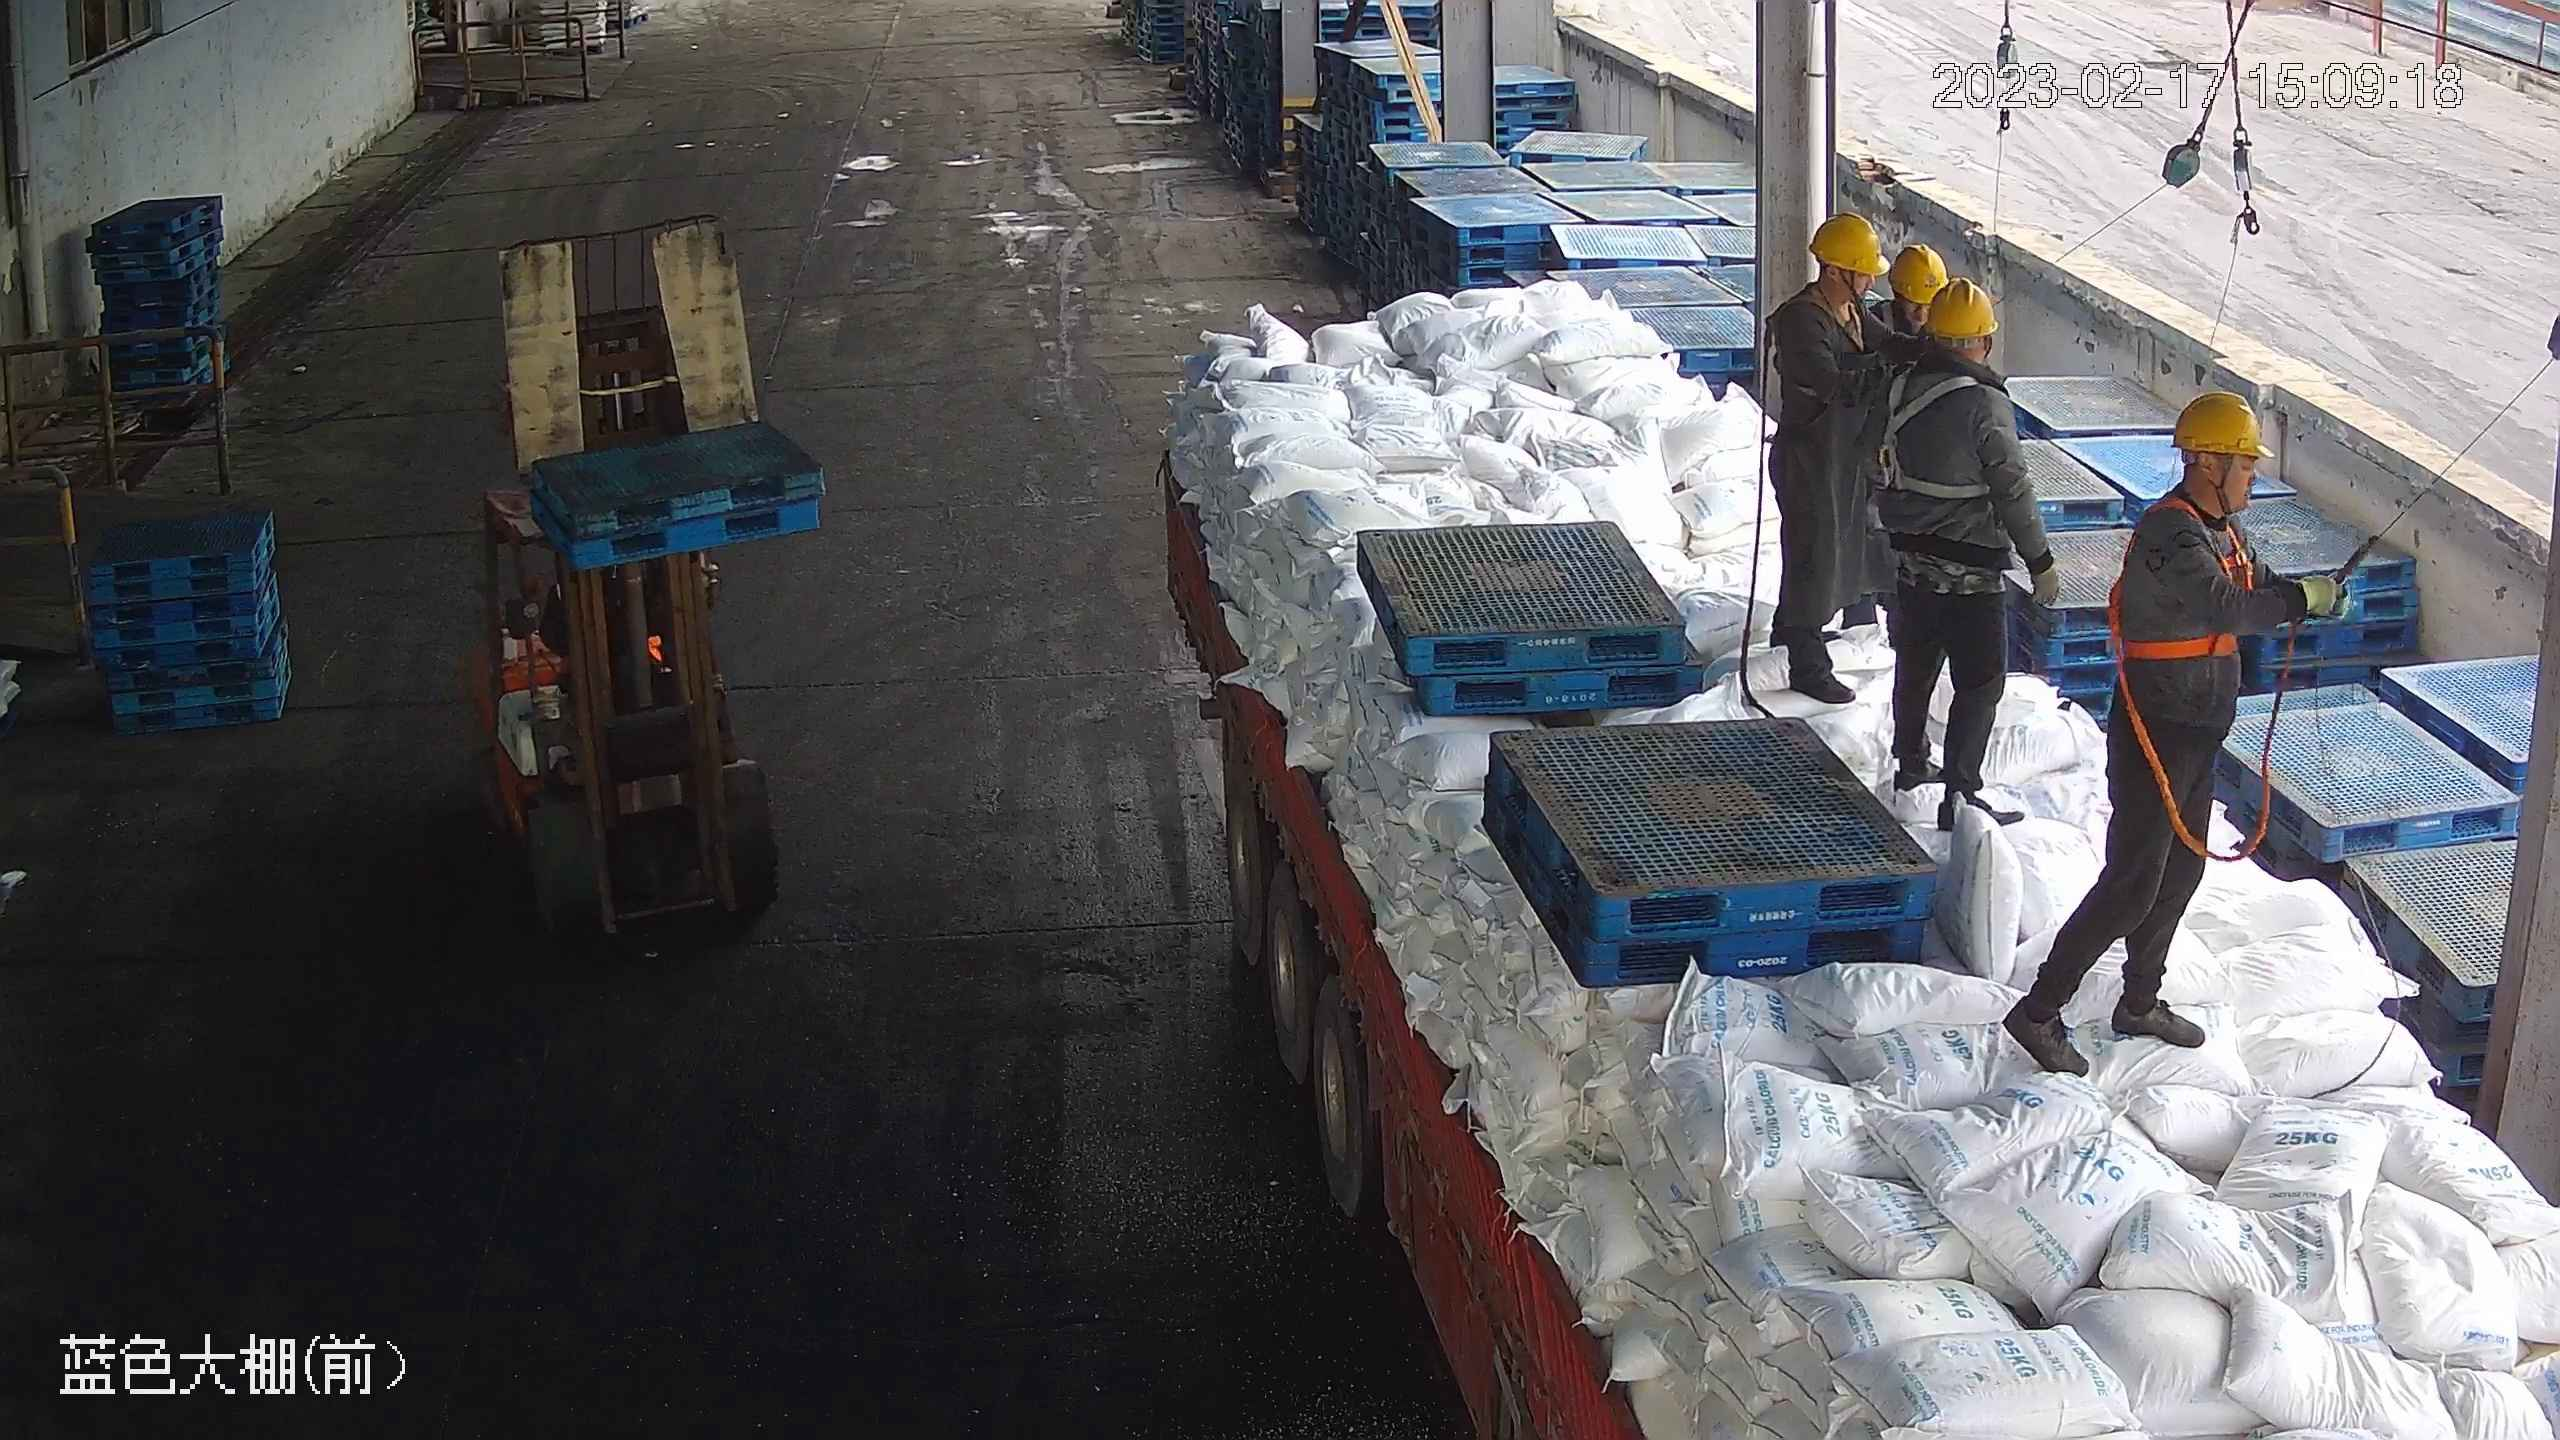belt: (2105, 502, 2295, 675), (1878, 360, 2006, 509), (1792, 298, 1881, 362)
head: (2116, 390, 2292, 607), (1890, 279, 2015, 466), (1769, 215, 1898, 395)
helmet: (2170, 388, 2273, 457), (1806, 213, 1892, 281), (1927, 277, 2000, 340), (1889, 243, 1954, 308)
people: (1997, 386, 2351, 1077), (1865, 277, 2062, 832), (1757, 212, 1929, 703)
truck: (1156, 376, 2560, 1440)
